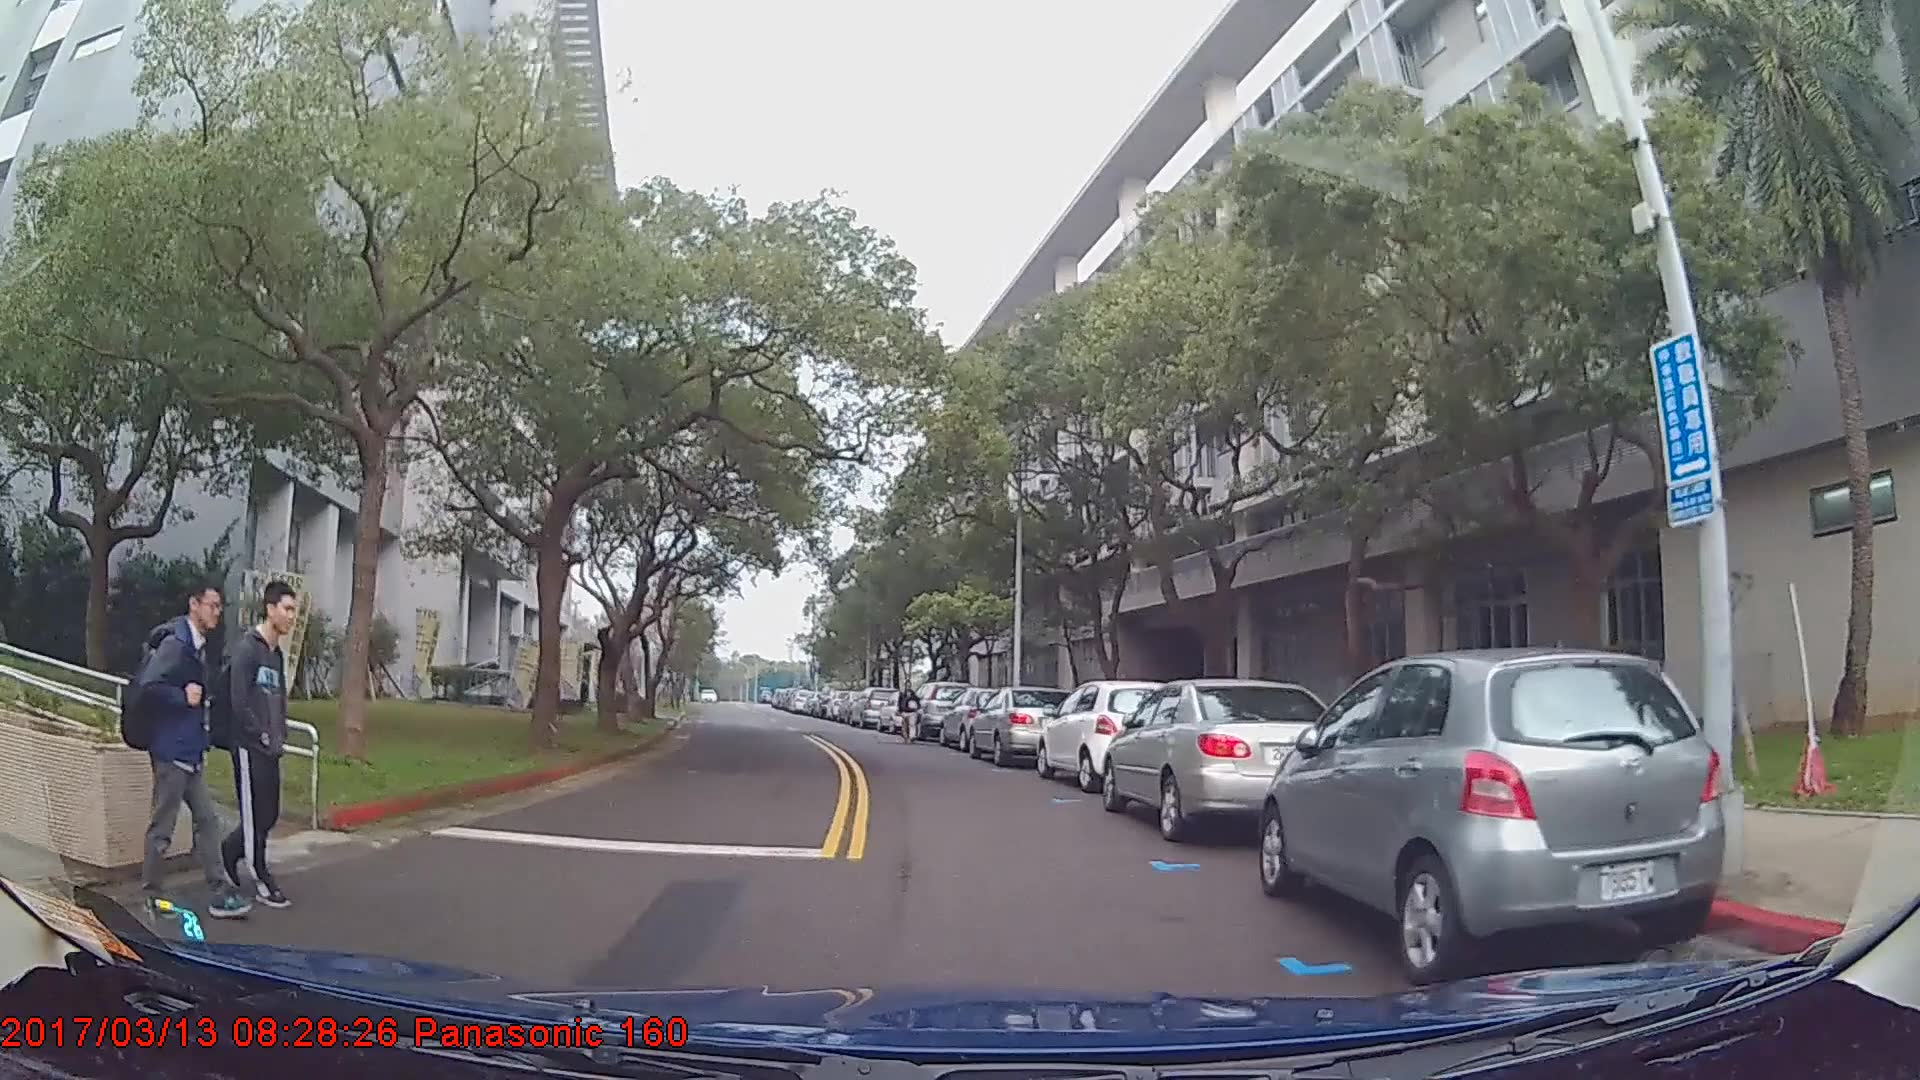pedestrian: (114, 571, 260, 930), (199, 573, 294, 914), (896, 675, 923, 743)
vehicle: (1256, 644, 1726, 982), (1102, 675, 1357, 838), (1037, 675, 1182, 791), (968, 684, 1070, 765), (935, 685, 1027, 752), (909, 678, 972, 740), (848, 684, 898, 728)
